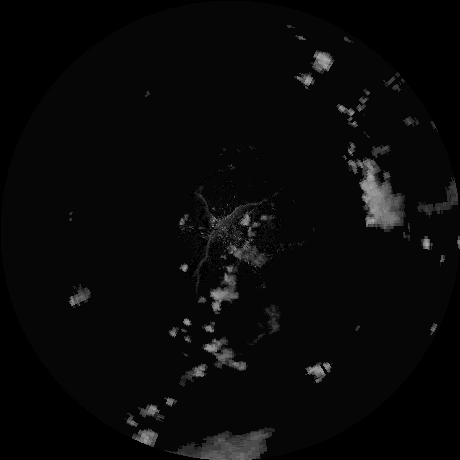frontgust: (198, 193, 219, 223)
